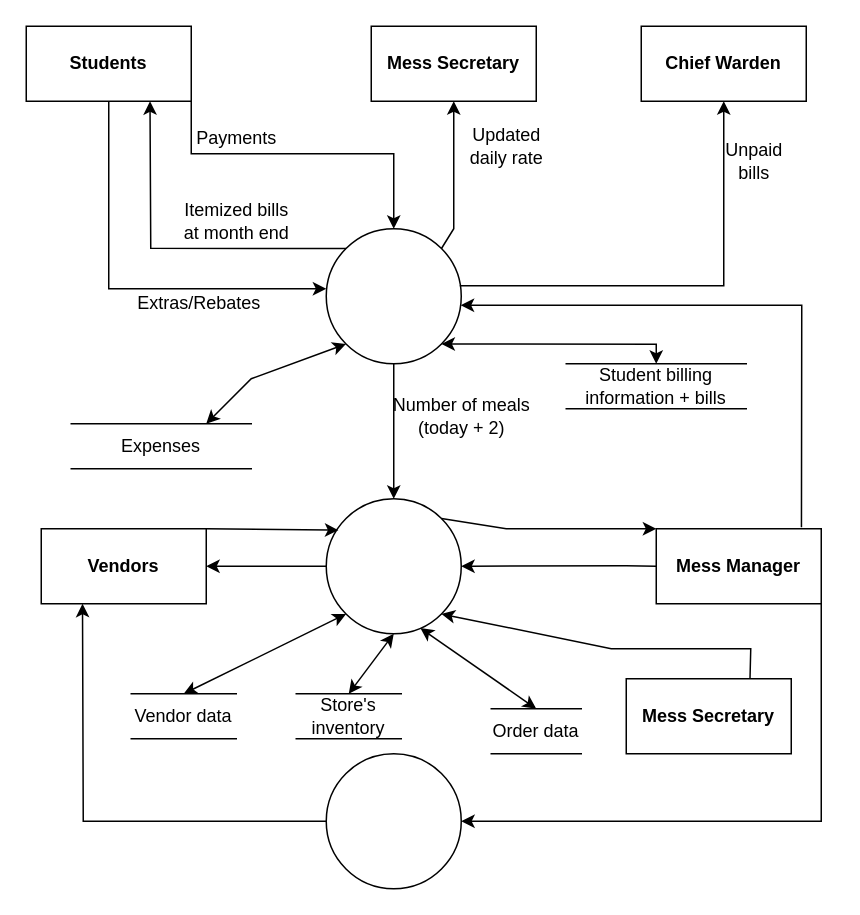
The diagram is 860 pixels wide and 915 high, and some of its shapes have lost their labels. Each missing label, with the centre of its shape:
"1. Billing System" goes at point (393, 295).
"2. Store issue and control system" goes at point (393, 565).
"3. Perishable ordering" goes at point (393, 820).
